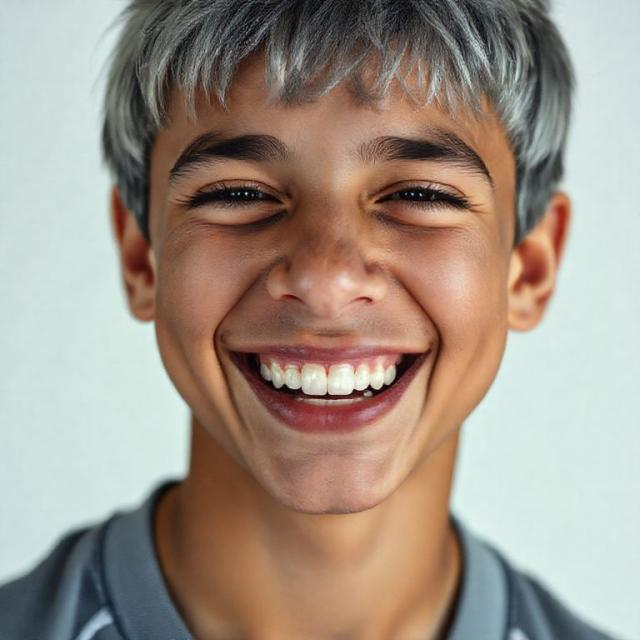0_rostro_limpio: (113, 0, 566, 513)
